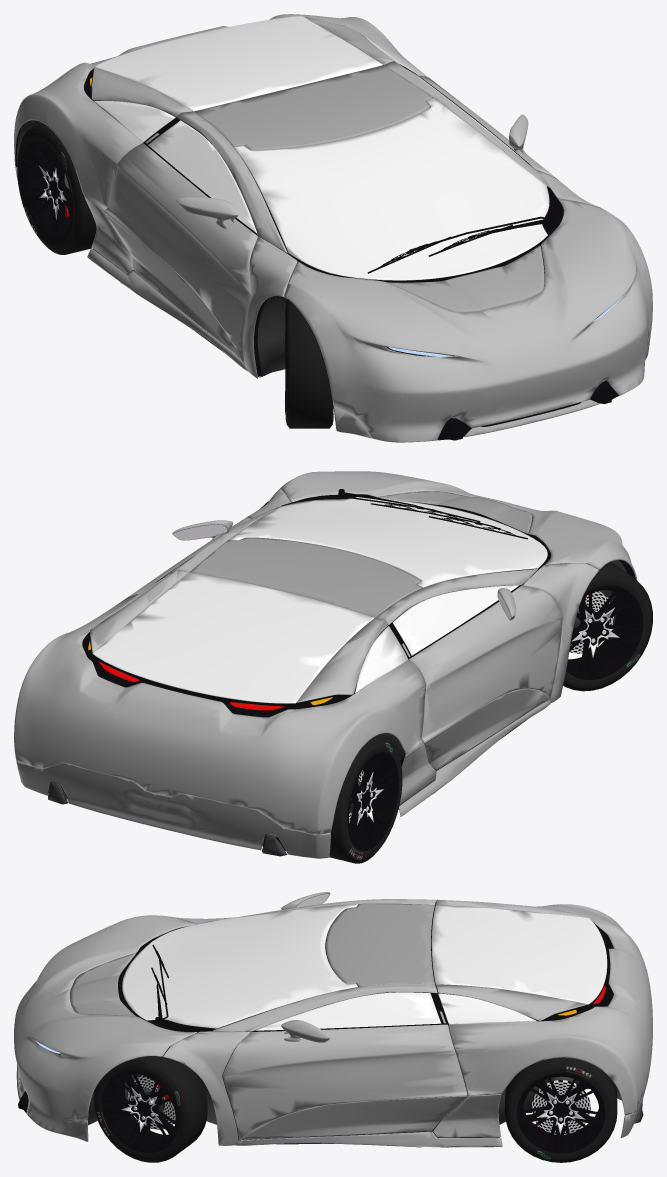
File: vehicle.glb
The picture shows the model from 3 angles, top to bottom: view 1: azimuth 30°, elevation 25°; view 2: azimuth 150°, elevation 25°; view 3: azimuth 270°, elevation 25°; orthographic projection. The views are drawn at different scales.
Visible parts, largest first — view 1: BodyRearPanelsColor1, BodyWindshield, BodyRoofPanel, BodyWindshieldGasket, WheelFrontR, WheelRearRRim, WheelRearR, BodyUnderside; view 2: BodyRearPanelsColor1, BodyWindshield, BodyRoofPanel, WheelFrontRRim, BodyWindshieldGasket, WheelRearRRim, WheelRearR, WheelFrontR, BodyUnderside, BodyDoorRMirror; view 3: BodyRearPanelsColor1, BodyWindshield, BodyRoofPanel, WheelFrontL, WheelRearLRim, WheelFrontLRim, WheelRearL, BodyWindshieldGasket, BodyUnderside, WheelRearLBrakeDisc, WheelFrontLBrakeDisc, InteriorMid.
Boxes of the visible parts, <box> form: BodyRearPanelsColor1: <box>14,14,652,442</box>; BodyWindshield: <box>94,16,549,280</box>; BodyRoofPanel: <box>15,65,651,438</box>; BodyWindshieldGasket: <box>16,64,618,440</box>; WheelFrontR: <box>285,299,333,428</box>; WheelRearRRim: <box>20,140,73,241</box>; WheelRearR: <box>17,124,96,254</box>; BodyUnderside: <box>16,120,596,425</box>; BodyRearPanelsColor1: <box>14,471,637,834</box>; BodyWindshield: <box>92,497,547,703</box>; BodyRoofPanel: <box>16,491,550,858</box>; WheelFrontRRim: <box>566,585,643,679</box>; BodyWindshieldGasket: <box>62,489,635,799</box>; WheelRearRRim: <box>347,752,398,850</box>; WheelRearR: <box>329,736,402,863</box>; WheelFrontR: <box>563,562,652,691</box>; BodyUnderside: <box>48,560,626,856</box>; BodyDoorRMirror: <box>174,524,511,618</box>; BodyRearPanelsColor1: <box>14,892,652,1145</box>; BodyWindshield: <box>122,904,607,1030</box>; BodyRoofPanel: <box>16,892,652,1147</box>; WheelFrontL: <box>93,1054,207,1162</box>; WheelRearLRim: <box>517,1073,605,1153</box>; WheelFrontLRim: <box>102,1070,178,1152</box>; WheelRearL: <box>505,1057,617,1162</box>; BodyWindshieldGasket: <box>18,901,613,1144</box>; BodyUnderside: <box>39,1025,643,1125</box>; WheelRearLBrakeDisc: <box>531,1080,590,1134</box>; WheelFrontLBrakeDisc: <box>127,1075,175,1129</box>; InteriorMid: <box>222,1031,499,1143</box>.
Size of the model in its own units: 2.54 by 1.15 by 4.36.
22 materials, 5 textured.
